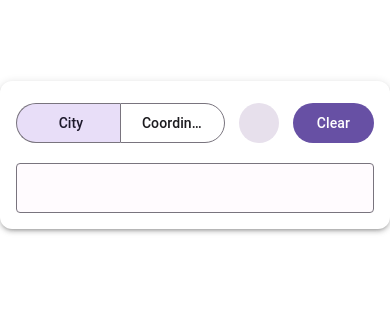
Test: SearchBar Component › Mode Toggle › clears a coordinate validation error when switching modes
The width and height of the screenshot is (390, 315).
Click the button with aria-label "Coordinates search": (172, 123) 121,104 -> 224,142
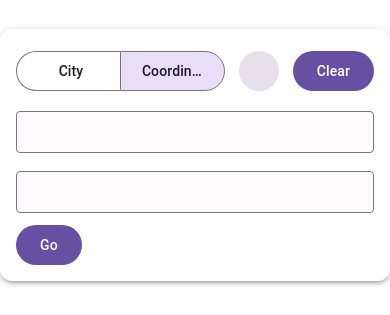
In the field named "latitude": (195, 133) 16,113 -> 374,153, type "100"
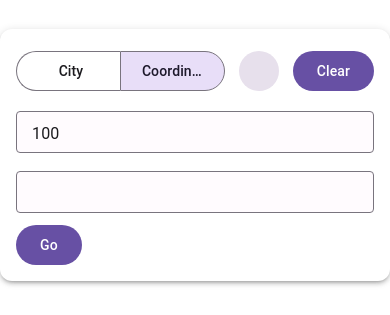
In the field named "longitude": (195, 193) 16,173 -> 374,213, type "45"
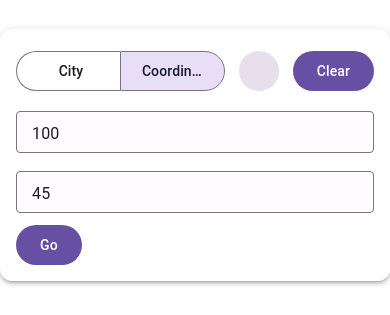
Click the button "Go": (49, 245) 16,225 -> 82,265
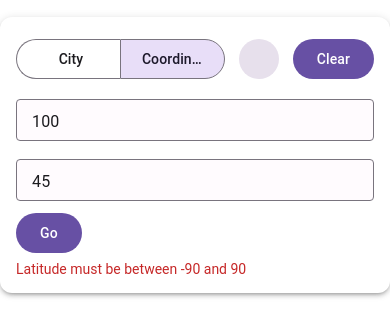
Expected: the message reads "Latitude must be between -90 and 90", 16,261 -> 246,277
Click the button with aria-label "City search": (68, 59) 17,40 -> 120,78
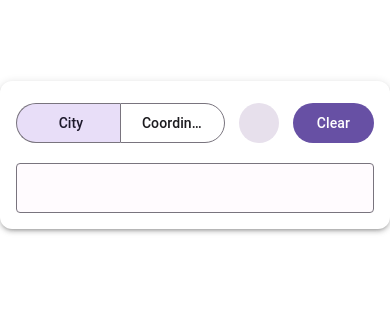
Expected: the message "Latitude must be between -90 and 90" is gone
